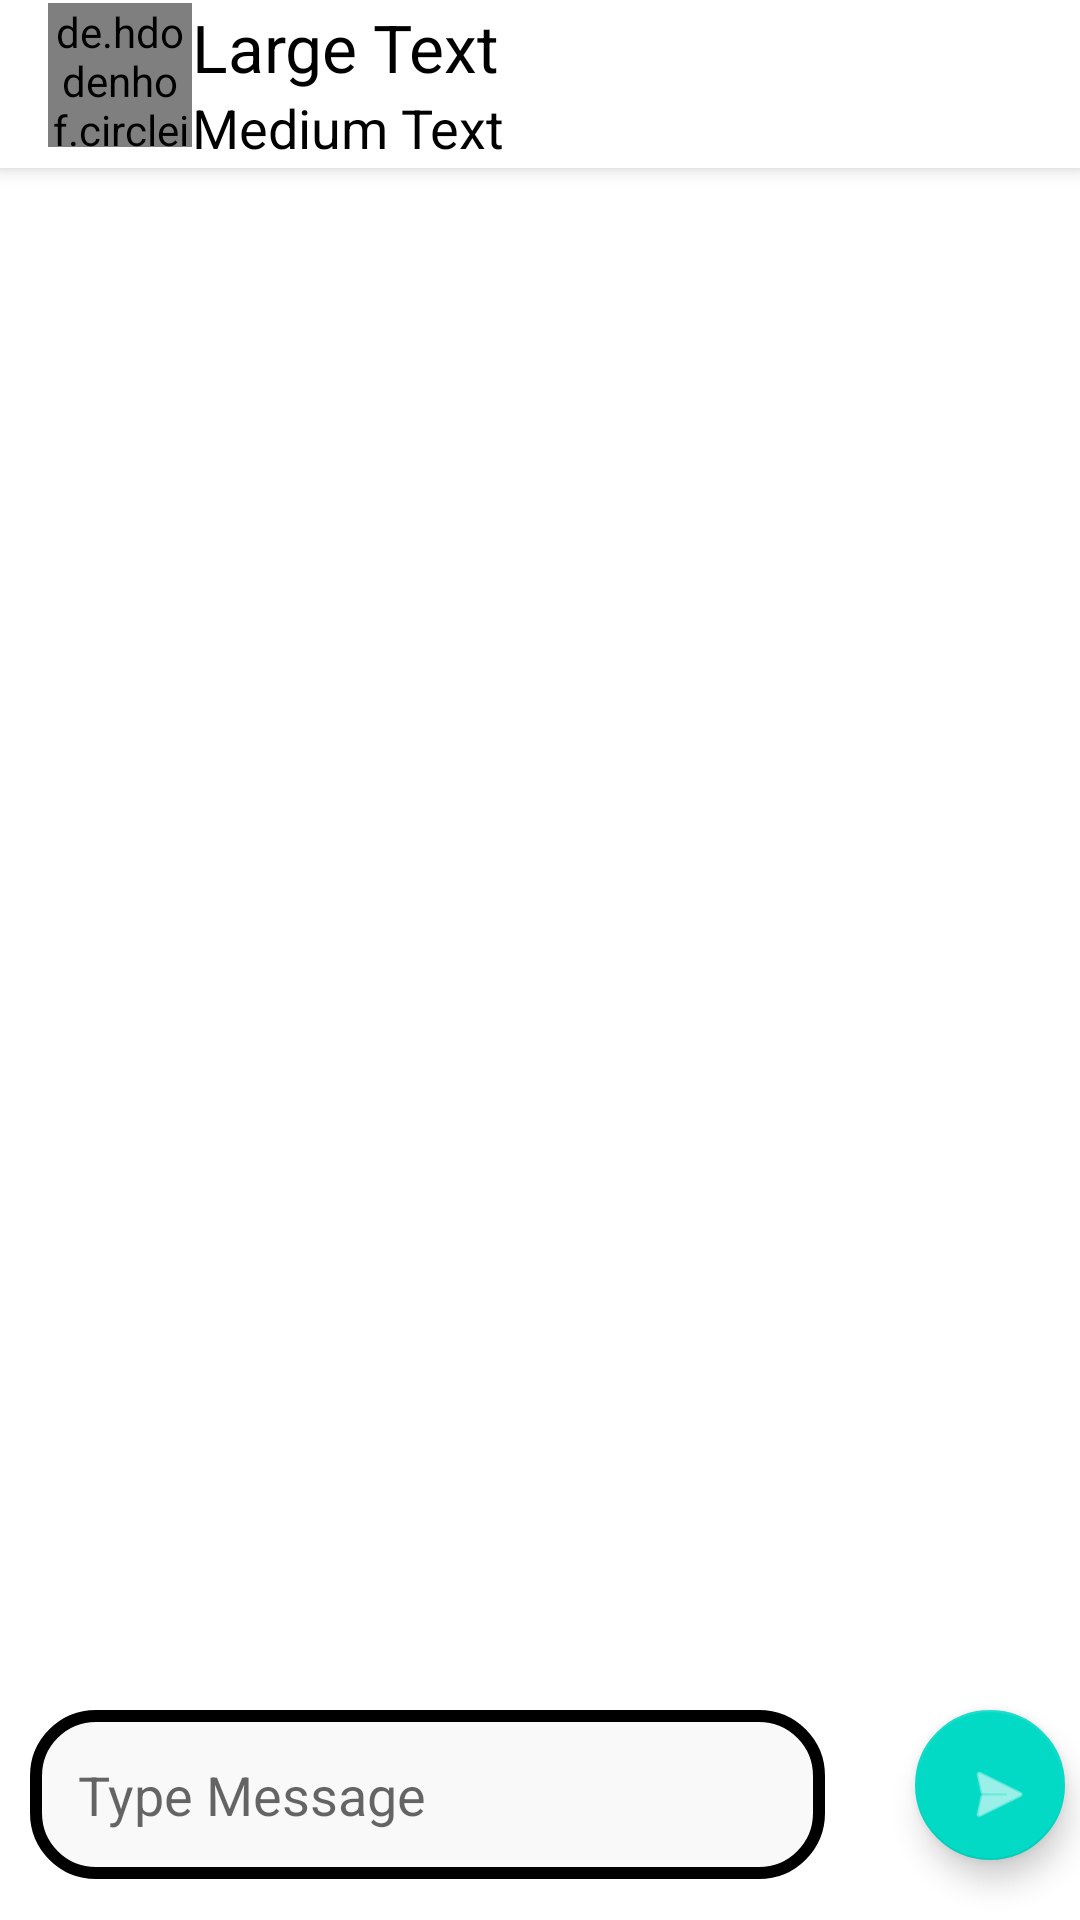

Icon click points for this 1080 × 1920 phone screenshot, format (x,y):
send: (990,1785)
